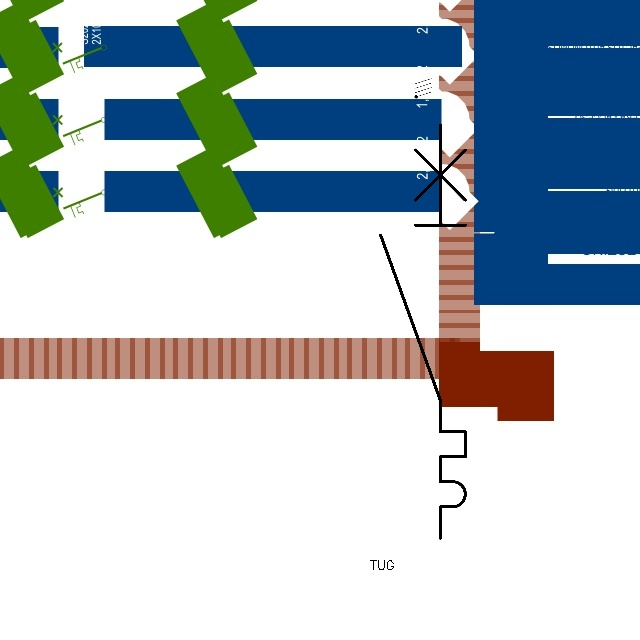interruptor_termomagnetico: (370, 114, 476, 549)
